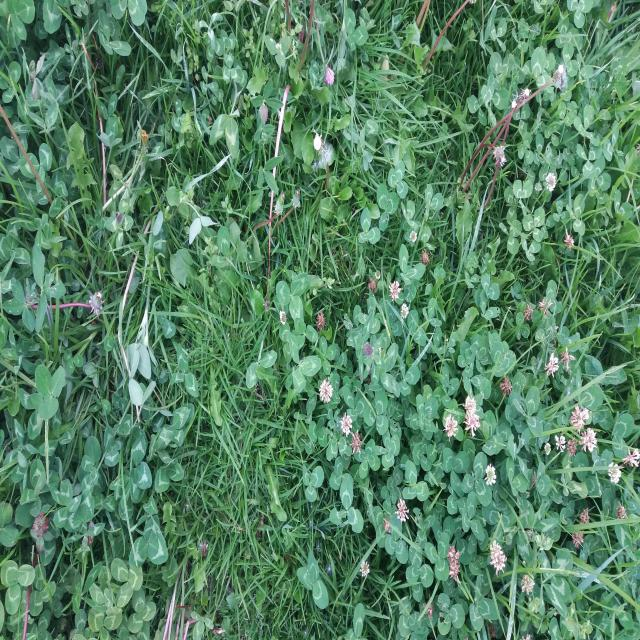Four Leaf Clover: (353, 439, 377, 479), (379, 428, 400, 468), (416, 394, 438, 432)
